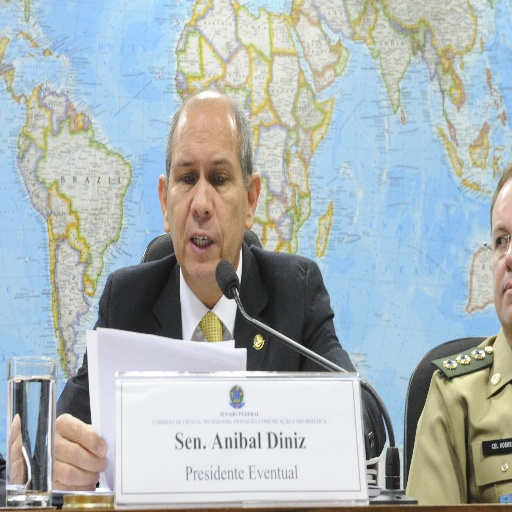hand: (50, 411, 108, 489)
